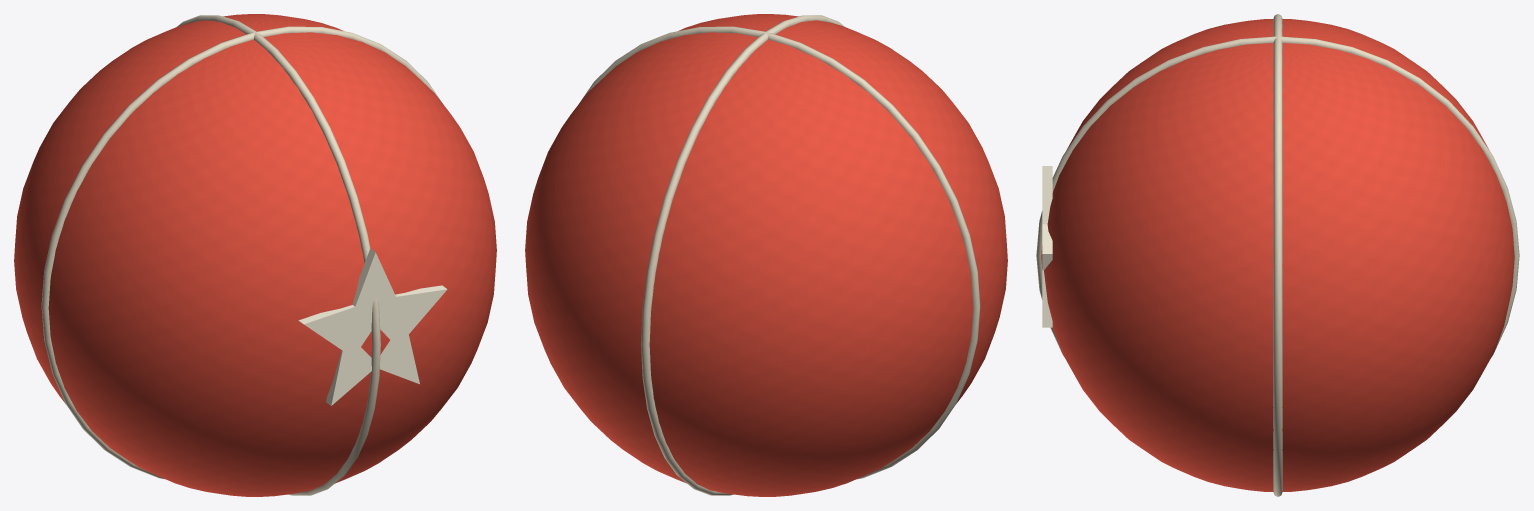
Rendered from BALL.glb.
The picture shows the model from 3 angles, left to right: view 1: azimuth 30°, elevation 25°; view 2: azimuth 150°, elevation 25°; view 3: azimuth 270°, elevation 25°; orthographic projection. The views are drawn at different scales.
Visible parts, largest first — view 1: BALL; view 2: BALL; view 3: BALL.
Boxes of the visible parts, box(x1,y1,x2,y2) form: BALL: box(14, 14, 496, 496); BALL: box(525, 14, 1007, 496); BALL: box(1036, 14, 1519, 496).
Bounding box in the file's own units: 0.367 × 0.367 × 0.367.
3 materials, 2 textured.
